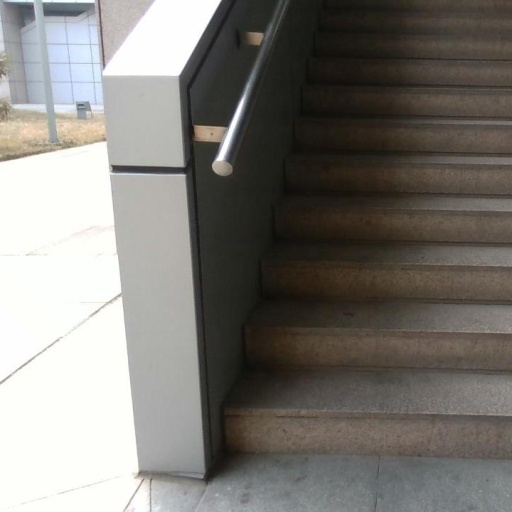Stairs: (224, 0, 512, 458)
